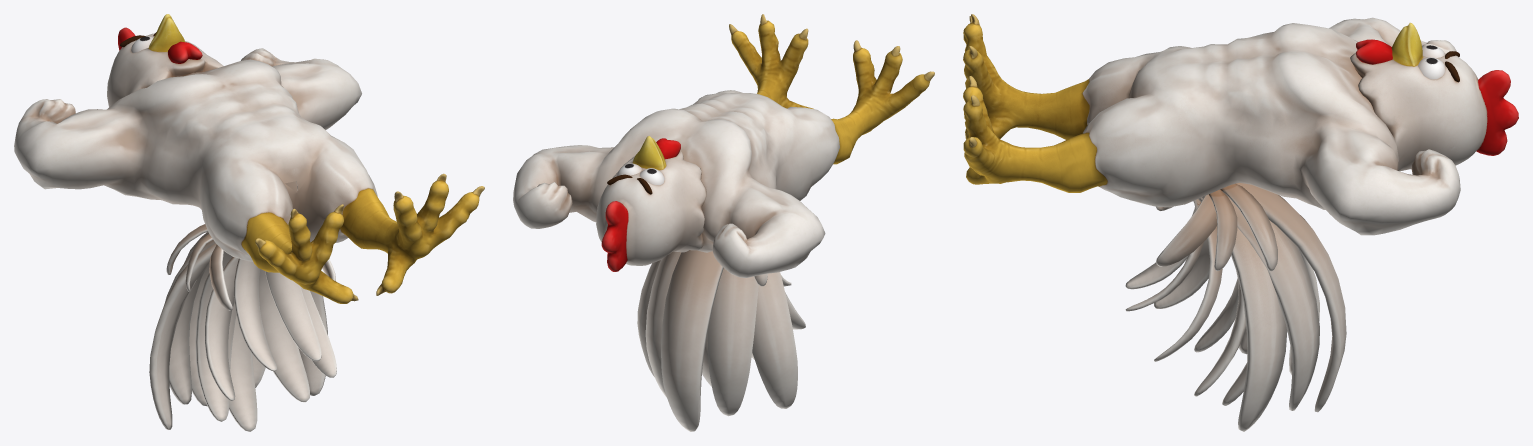
Rendered from Chicken1.fbx.
3 renders of one model, left to right at view 1: azimuth 30°, elevation 25°; view 2: azimuth 150°, elevation 25°; view 3: azimuth 270°, elevation 25°, orthographic. The views are drawn at different scales.
Parts seen in each view (by area): view 1: Object006, Object030, Object032, Object012, Object029, Object031, Object021, Object035, Object013, Object034, Box001, Object014; view 2: Object006, Object012, Object021, Object013, Object029, Sphere001; view 3: Object006, Object012, Object029, Object021, Object013, Object031, Object030, Object034, Object014, Object032, Object033, Box001 (+1 smaller).
Boxes of the visible parts, x1,y1,x2,y2 form: Object006: (14, 48, 484, 303); Object030: (195, 251, 309, 421); Object032: (233, 258, 321, 371); Object012: (107, 14, 223, 107); Object029: (149, 243, 327, 429); Object031: (205, 257, 336, 401); Object021: (165, 240, 265, 404); Object035: (229, 316, 257, 431); Object013: (184, 232, 209, 406); Object034: (209, 244, 335, 310); Box001: (168, 41, 202, 63); Object014: (166, 224, 207, 274); Object006: (513, 14, 934, 277); Object012: (596, 136, 706, 271); Object021: (645, 251, 758, 416); Object013: (661, 250, 723, 431); Object029: (637, 260, 797, 408); Sphere001: (617, 163, 664, 185); Object006: (963, 14, 1460, 235); Object012: (1350, 22, 1518, 171); Object029: (1231, 227, 1287, 431); Object021: (1202, 196, 1319, 410); Object013: (1236, 182, 1346, 412); Object031: (1154, 202, 1222, 361); Object030: (1194, 197, 1246, 396); Object034: (1156, 194, 1217, 266); Object014: (1220, 183, 1277, 271); Object032: (1125, 199, 1203, 311); Object033: (1209, 189, 1237, 270); Box001: (1356, 39, 1392, 64).
Size of the model in its own units: 211 by 220 by 283.
Materials: 1 (1 with a texture image).
